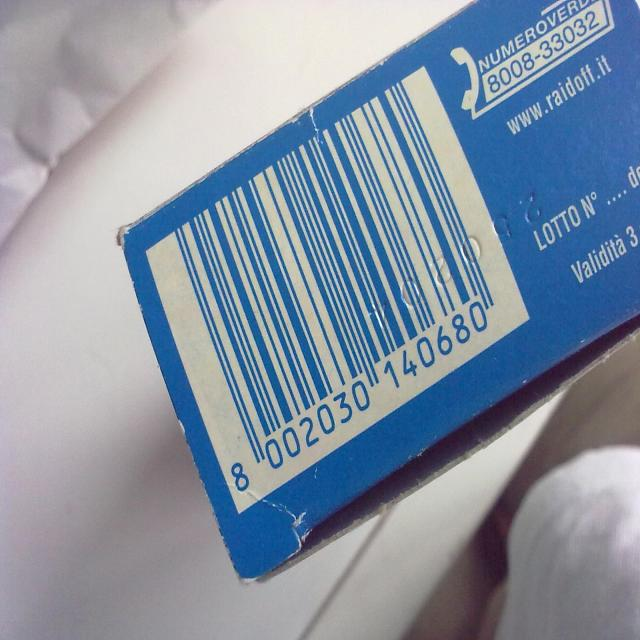barcode: (146, 68, 528, 512)
